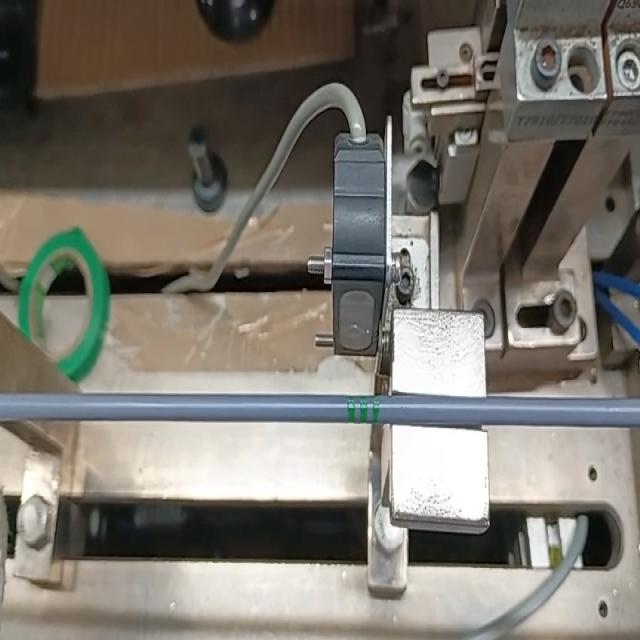green: (347, 394, 379, 423)
